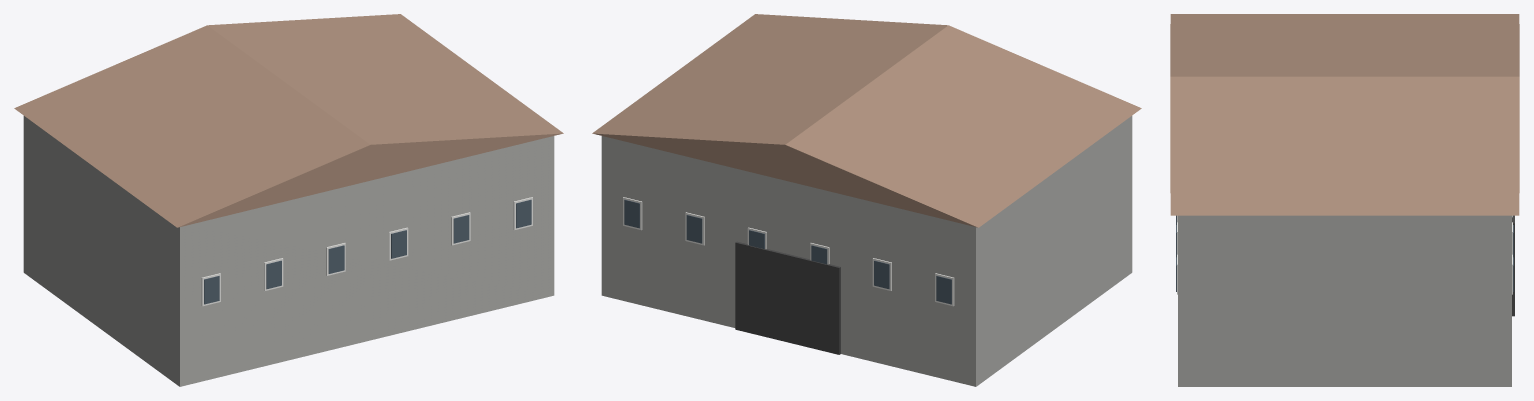
File: waterfront_warehouse.glb
3 renders of one model, left to right at view 1: azimuth 30°, elevation 25°; view 2: azimuth 150°, elevation 25°; view 3: azimuth 270°, elevation 25°, orthographic. The views are drawn at different scales.
Visible parts, largest first — view 1: warehouse_body, warehouse_roof; view 2: warehouse_body, warehouse_roof, warehouse_door; view 3: warehouse_roof, warehouse_body.
Part boxes in pixels (x1,y1,x2,y2): warehouse_body: [23, 116, 554, 386]; warehouse_roof: [14, 14, 563, 227]; warehouse_body: [601, 116, 1132, 386]; warehouse_roof: [592, 14, 1141, 227]; warehouse_door: [735, 241, 840, 354]; warehouse_roof: [1170, 14, 1519, 215]; warehouse_body: [1178, 215, 1511, 386].
Size of the model in its own units: 18.59 by 9.15 by 13.6.
